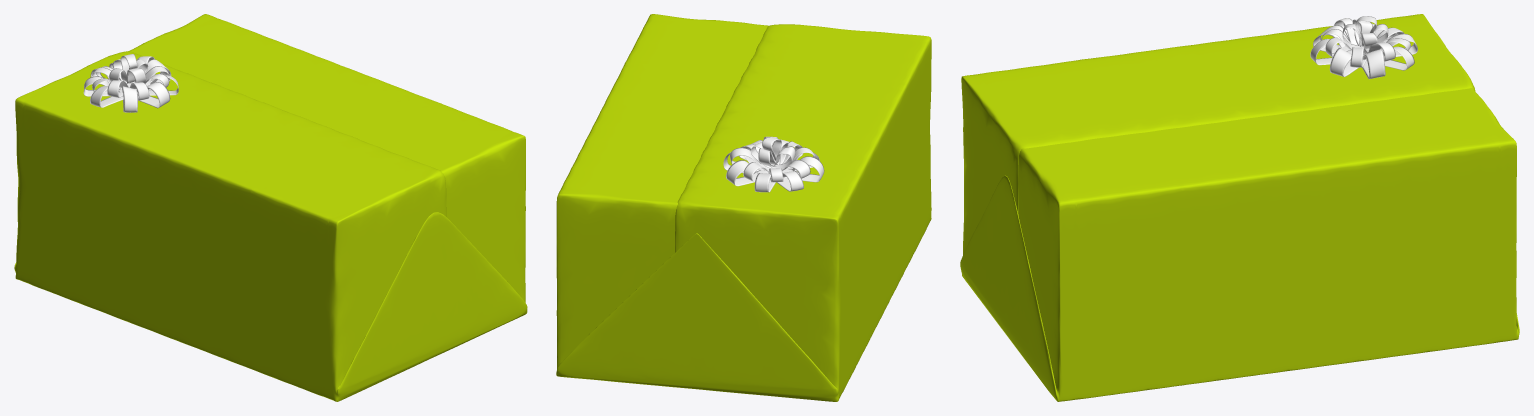
The model's file is Gift3.glb.
The picture shows the model from 3 angles, left to right: view 1: azimuth 30°, elevation 25°; view 2: azimuth 150°, elevation 25°; view 3: azimuth 270°, elevation 25°; orthographic projection. The views are drawn at different scales.
Visible parts, largest first — view 1: Line004_24 - Default_0, BOW_SILVER_0; view 2: Line004_24 - Default_0, BOW_SILVER_0; view 3: Line004_24 - Default_0, BOW_SILVER_0.
Boxes of the visible parts, <box> form: Line004_24 - Default_0: <box>14,14,527,401</box>; BOW_SILVER_0: <box>83,54,178,112</box>; Line004_24 - Default_0: <box>556,14,931,401</box>; BOW_SILVER_0: <box>723,136,824,192</box>; Line004_24 - Default_0: <box>960,14,1519,401</box>; BOW_SILVER_0: <box>1310,16,1417,79</box>.
Bounding box in the file's own units: 3.16 × 1.9 × 3.95.
